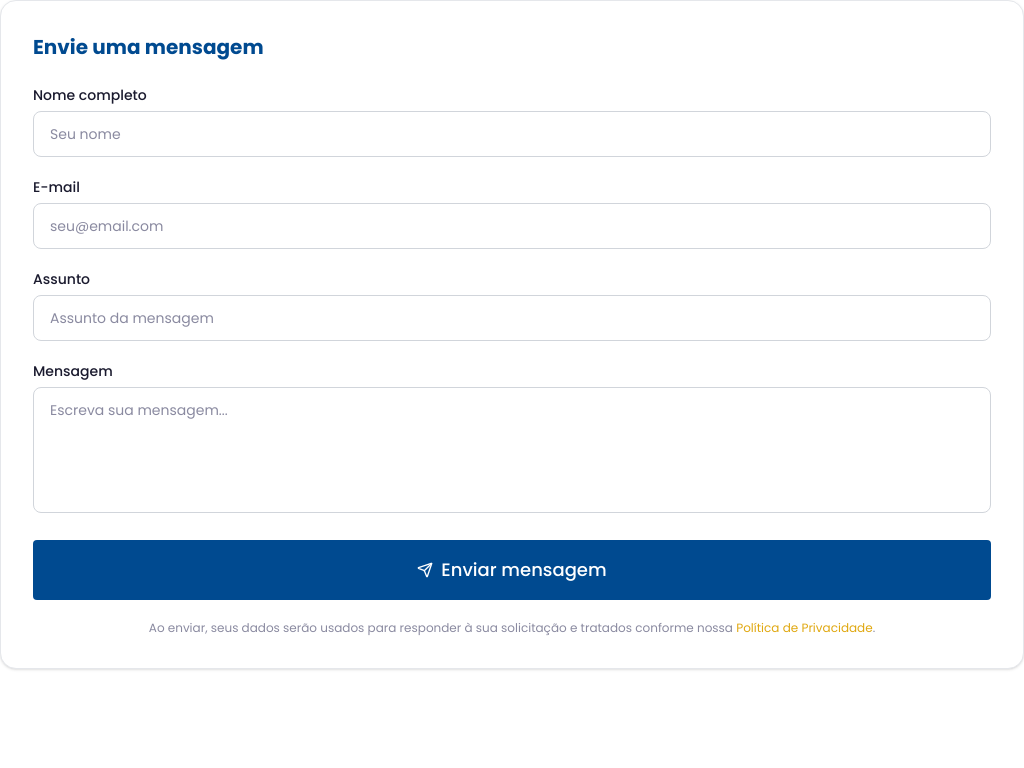
Scenario: ContactForm › mostra erros por campo e preserva os dados após resposta 422
This screenshot has width=1024, height=768.
Type "Maria da Silva" into the field labelled "Nome completo" at (512, 134), box [33,111,991,157]
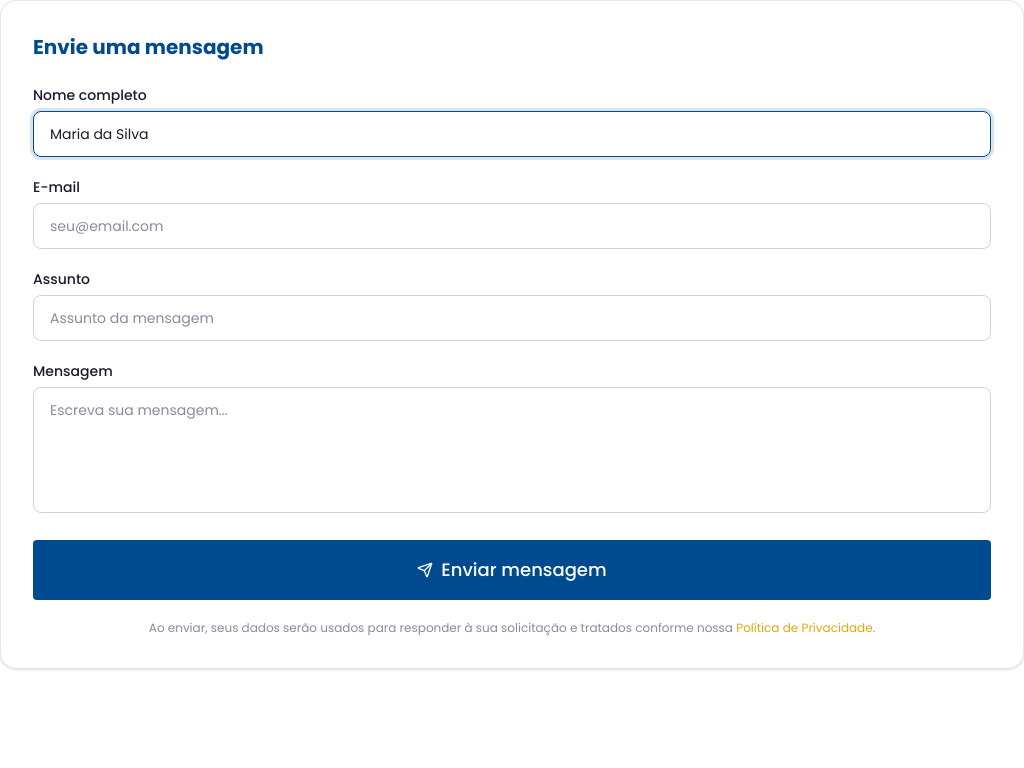
Type "maria@example.com" into the field labelled "E-mail" at (512, 226), box [33,203,991,249]
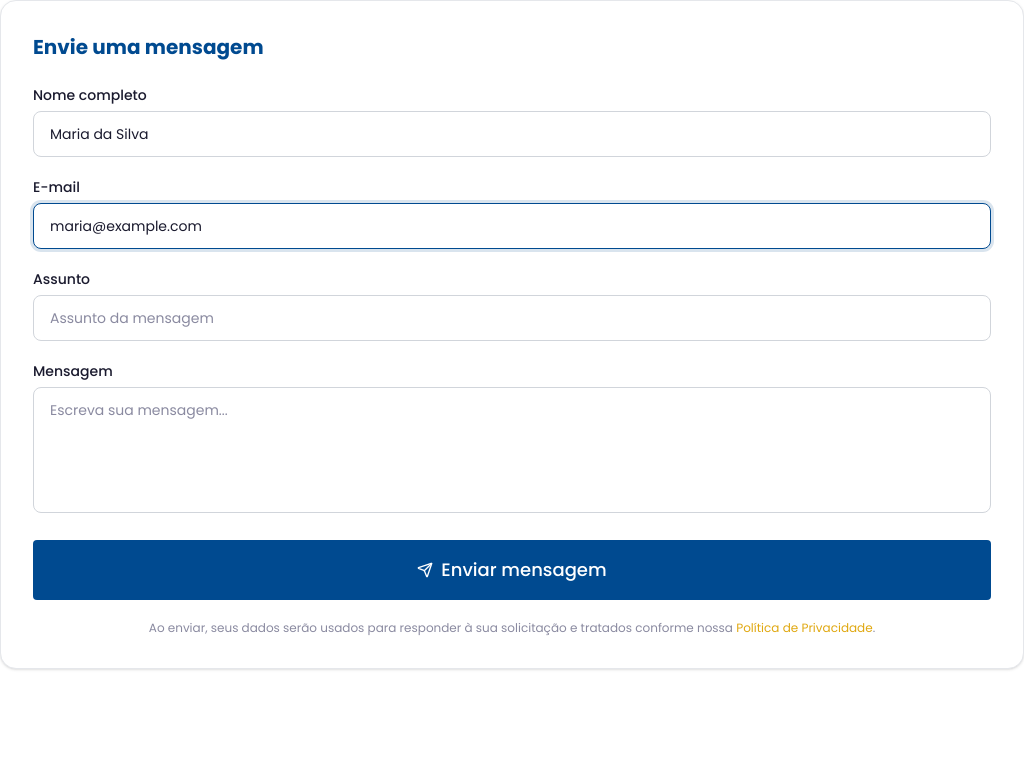
Type "Quero saber mais" into the field labelled "Assunto" at (512, 318), box [33,295,991,341]
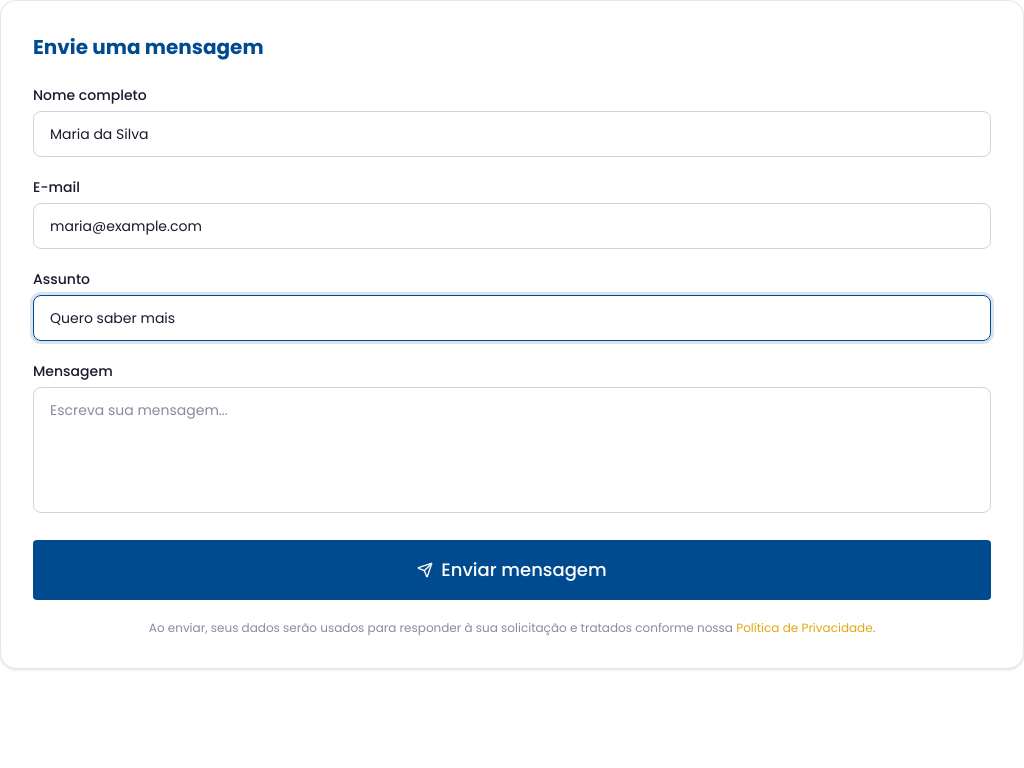
Type "Gostaria de conhecer os serviços oferecidos." into the text box labelled "Mensagem" at (512, 450), box [33,387,991,513]
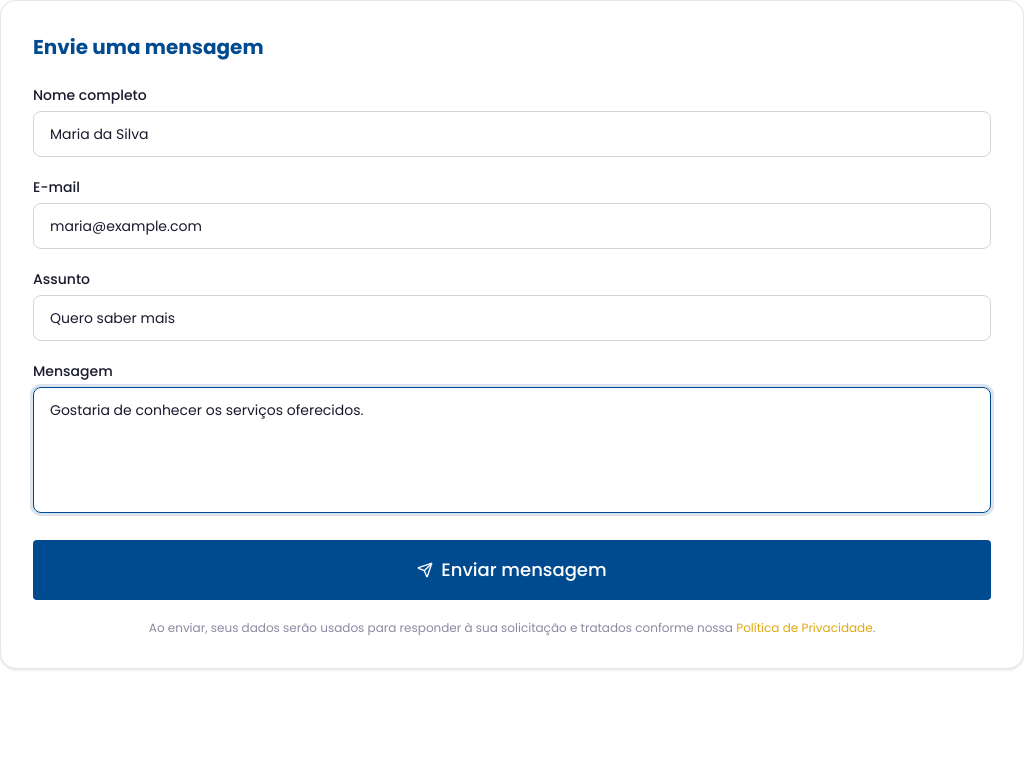
Click the button "Enviar mensagem" at (512, 570), box [33,540,991,600]
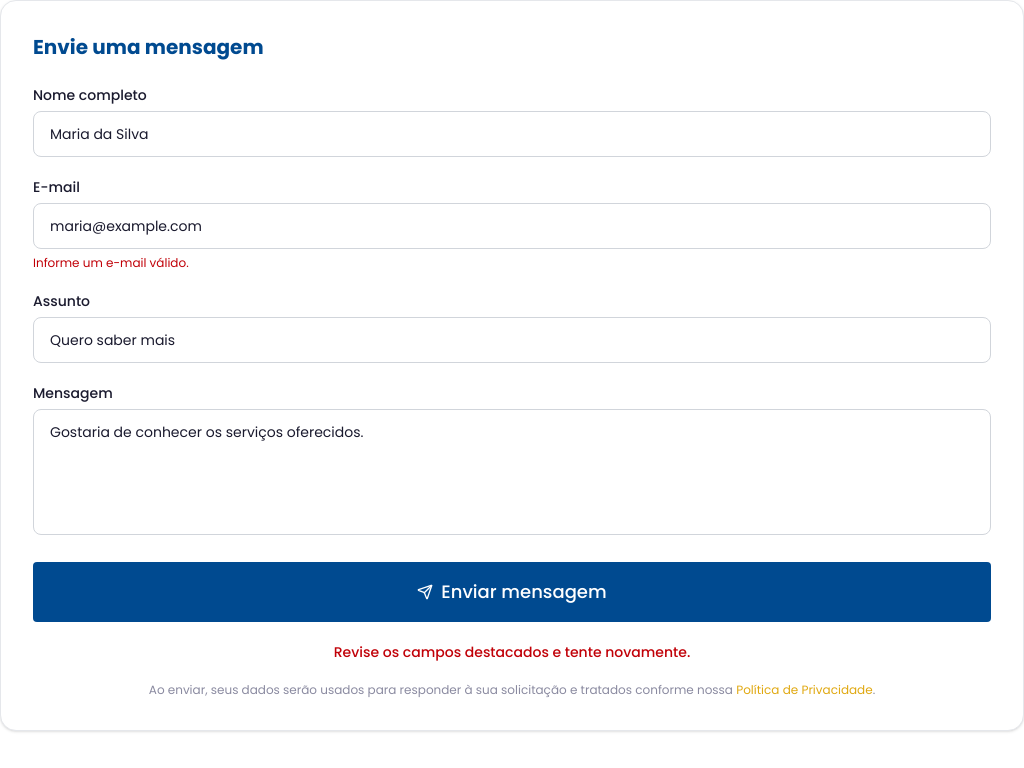
Result: the text "Informe um e-mail válido." is shown at [33,254,189,271]
